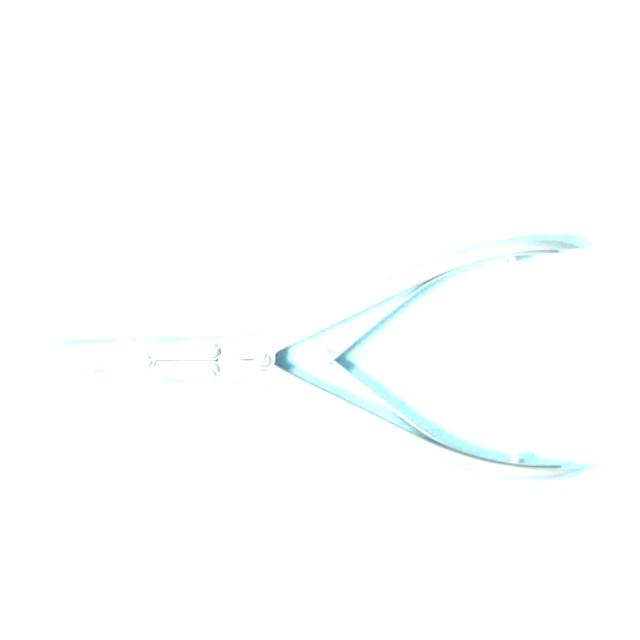gubia: (61, 242, 573, 484)
